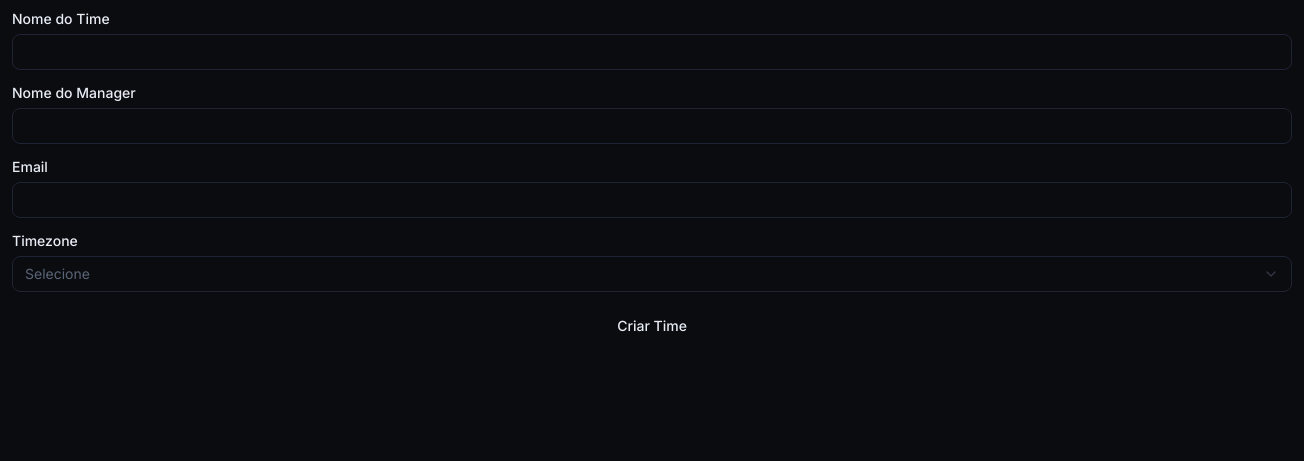
TeamCreateForm › shows validation errors on empty submit
The width and height of the screenshot is (1304, 461).
Click the button "Criar Time" at (652, 326), box [12, 308, 1292, 344]
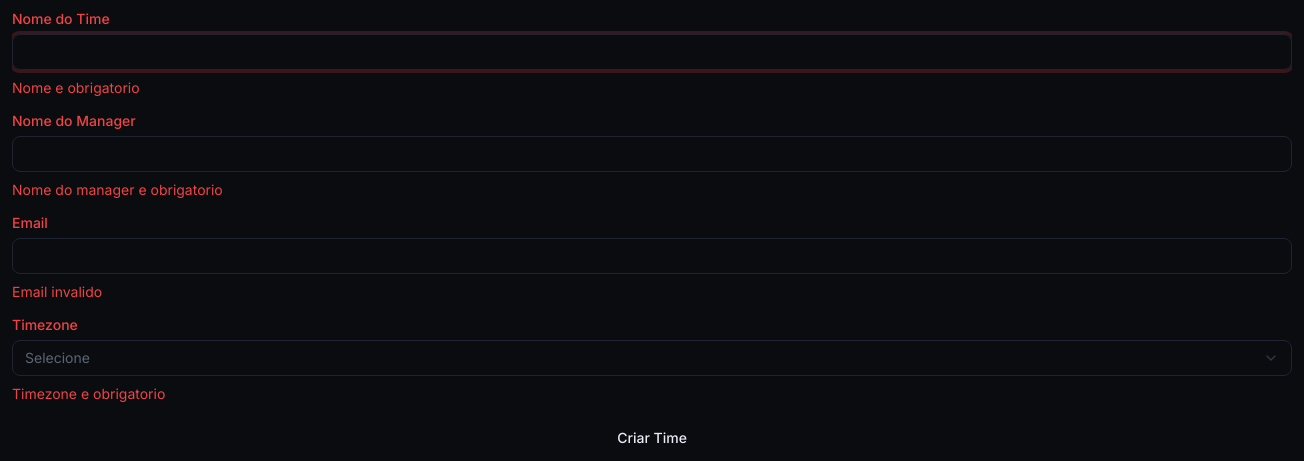
Check: the text "Nome e obrigatorio" is shown, box [12, 79, 140, 96]
Check: the text "Nome do manager e obrigatorio" is shown, box [12, 181, 223, 198]
